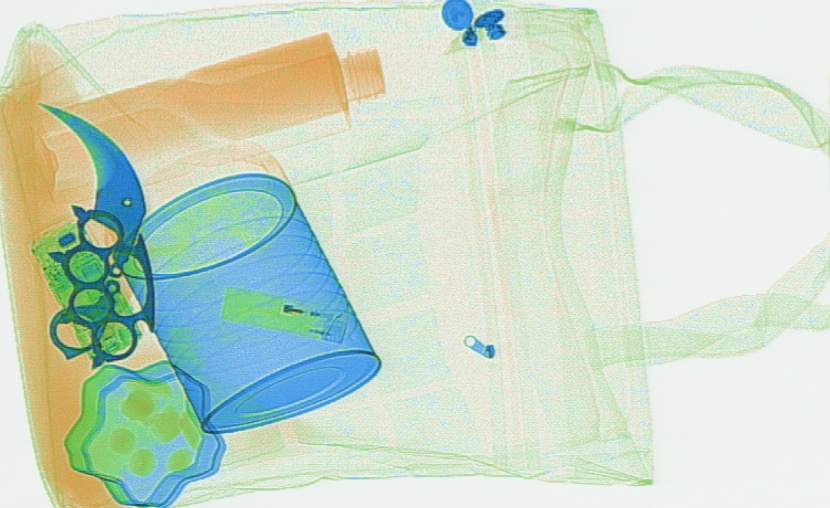knife: (23, 101, 154, 353)
lighter: (217, 289, 350, 344)
